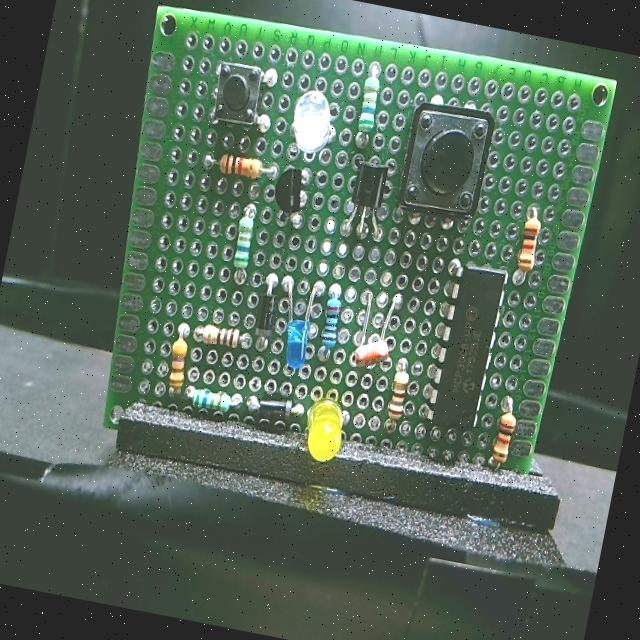IC: (414, 254, 514, 441)
cds: (352, 316, 395, 382)
diode: (246, 267, 288, 359), (238, 376, 304, 432)
led: (282, 76, 348, 170), (272, 269, 326, 373), (300, 388, 354, 472)
resistor: (156, 315, 203, 403), (222, 201, 265, 280), (207, 144, 276, 189), (350, 68, 392, 140), (380, 360, 420, 435), (316, 288, 349, 357), (511, 210, 554, 262), (198, 315, 250, 353), (488, 405, 520, 464), (182, 382, 234, 418)
switch: (391, 96, 500, 224), (198, 54, 272, 130)
transistor: (338, 148, 402, 248), (262, 160, 320, 233)
